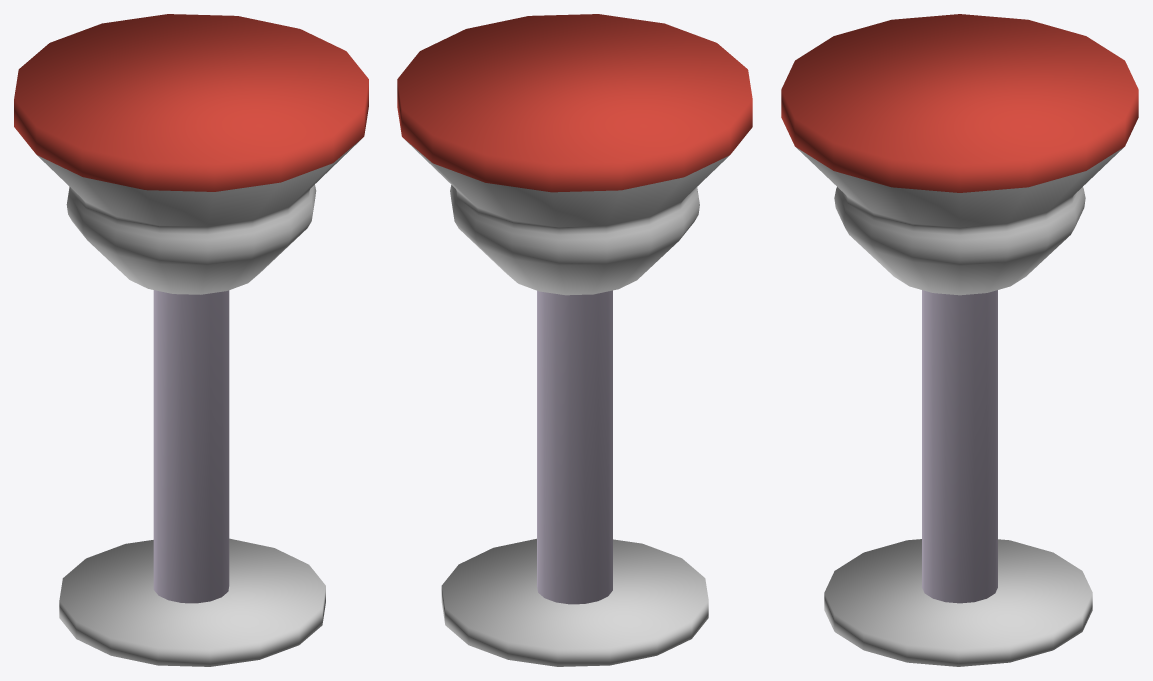
The model's file is Chair.fbx.
3 views of the same model, side by side, from view 1: azimuth 30°, elevation 25°; view 2: azimuth 150°, elevation 25°; view 3: azimuth 270°, elevation 25° (orthographic).
Parts seen in each view (by area): view 1: Cylinder.004; view 2: Cylinder.004; view 3: Cylinder.004.
Boxes of the visible parts, x1=… form: Cylinder.004: x1=14, y1=14, x2=368, y2=666; Cylinder.004: x1=397, y1=14, x2=752, y2=666; Cylinder.004: x1=781, y1=14, x2=1138, y2=666.
Size of the model in its own units: 74.02 by 119 by 74.02.
